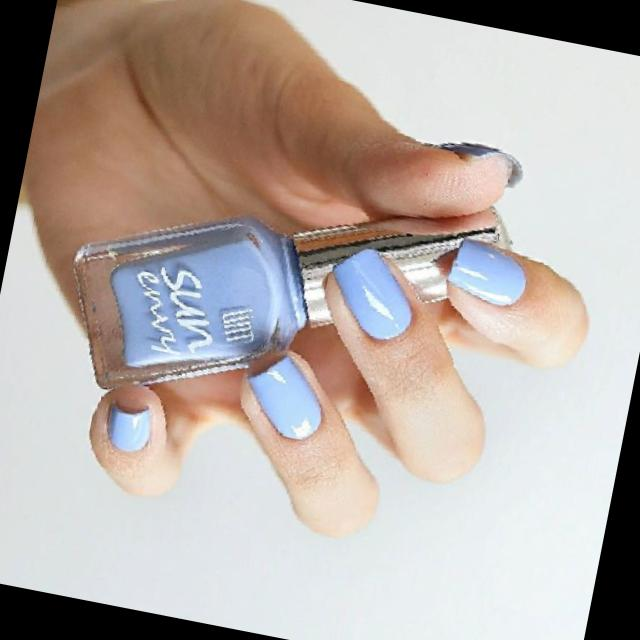Nail: (332, 249, 411, 340), (248, 356, 321, 440), (446, 239, 525, 306), (107, 406, 150, 453)
